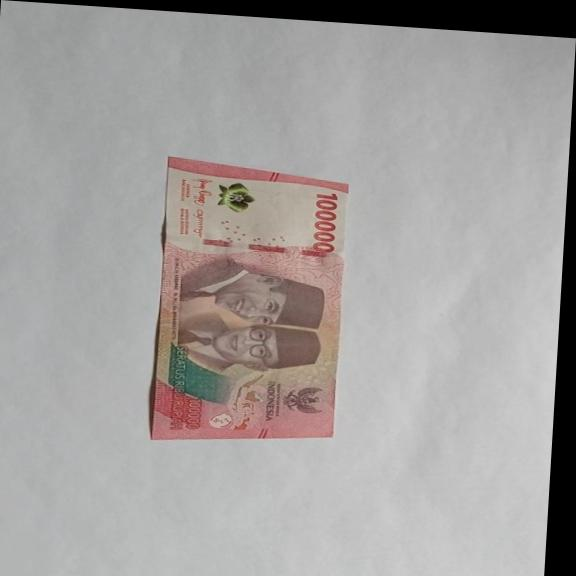Kertas: (147, 155, 352, 453), (309, 191, 341, 254)
